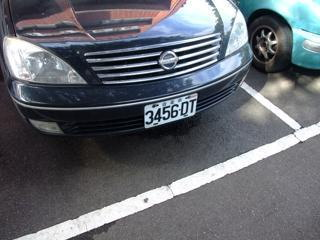plate: (142, 96, 196, 126)
